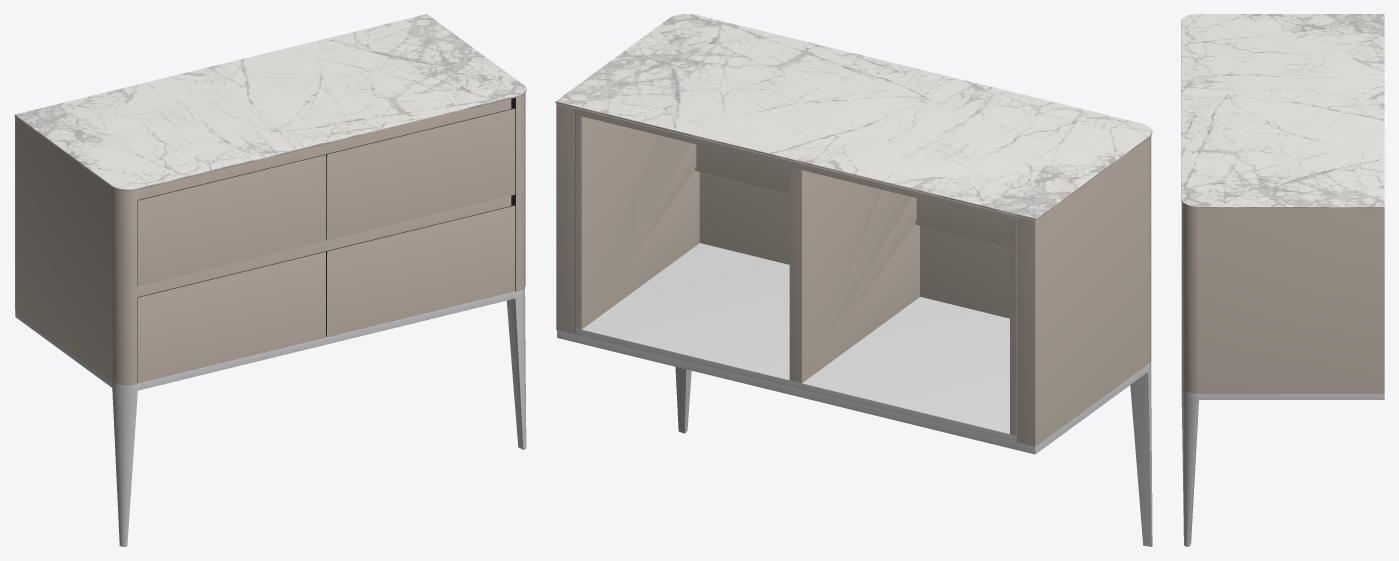
3 views of the same model, side by side, from view 1: azimuth 30°, elevation 25°; view 2: azimuth 150°, elevation 25°; view 3: azimuth 270°, elevation 25° (orthographic). The views are drawn at different scales.
Parts seen in each view (by area): view 1: ER05; view 2: ER05; view 3: ER05.
Part boxes in pixels (<box>): ER05: <box>14,14,526,546</box>; ER05: <box>555,14,1152,546</box>; ER05: <box>1181,14,1384,546</box>.
Size of the model in its own units: 1.25 by 1.04 by 0.56.
5 materials, 1 textured.
